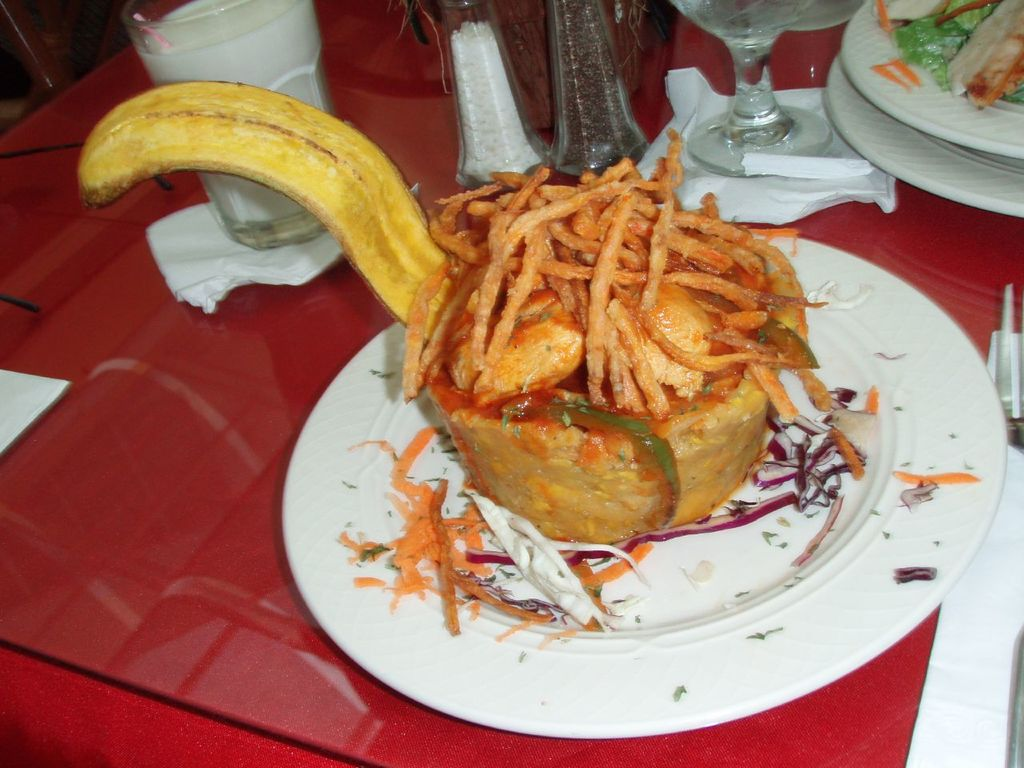French fries: (396, 128, 800, 428)
